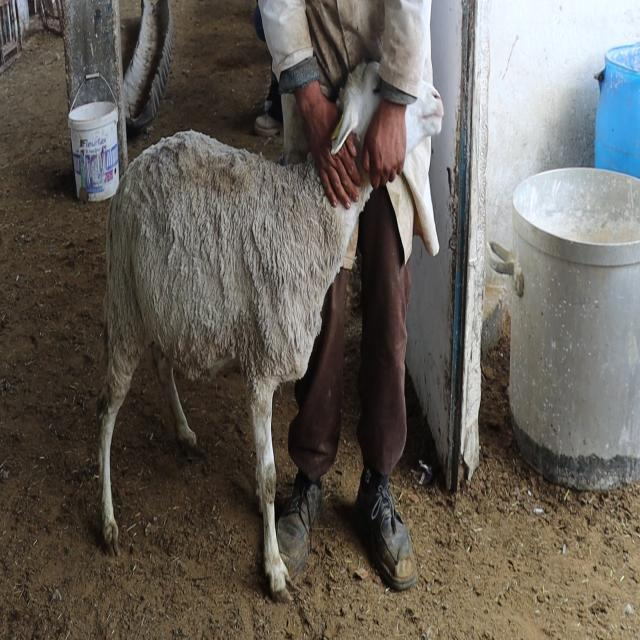Score_5: (98, 130, 371, 601)
